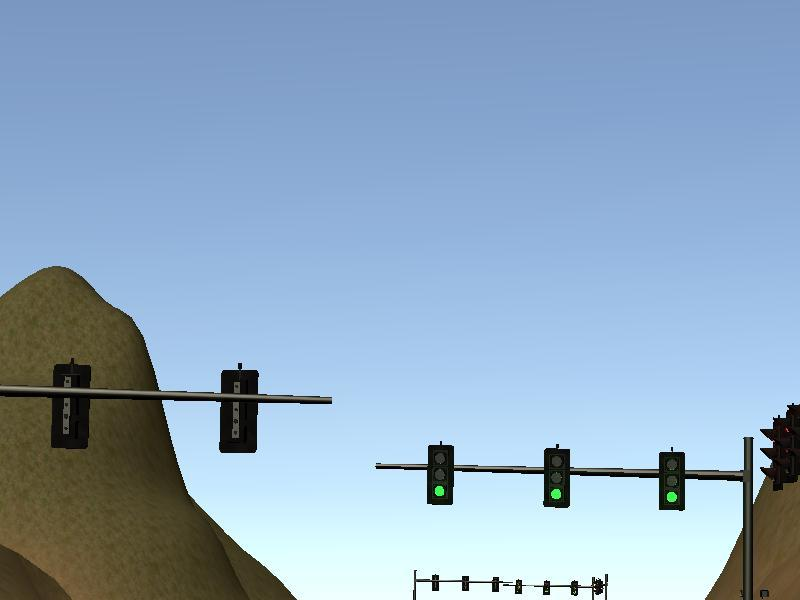Green: (427, 445, 455, 503), (544, 447, 569, 508), (658, 452, 683, 509)
